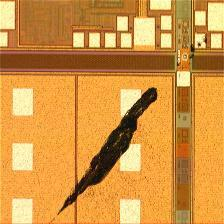PARTICLE: (49, 70, 185, 224)
